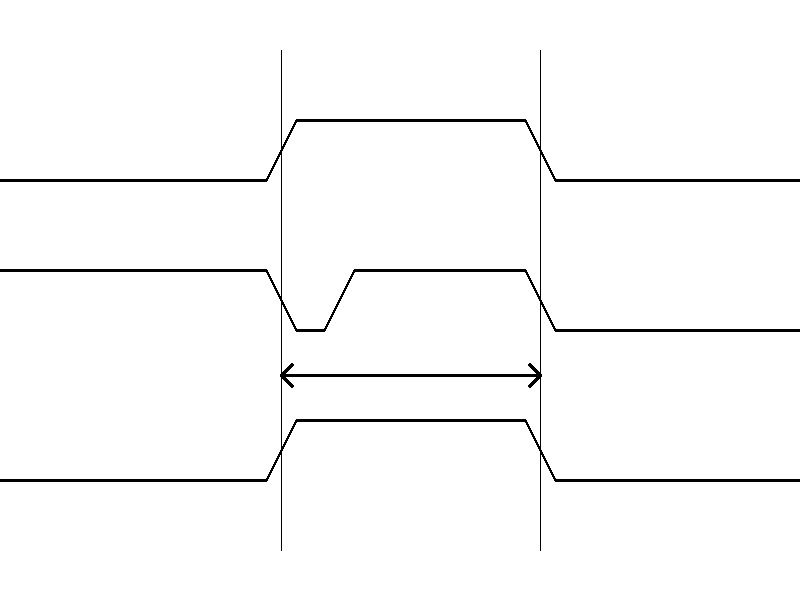double_arrow: (281, 360, 540, 390)
